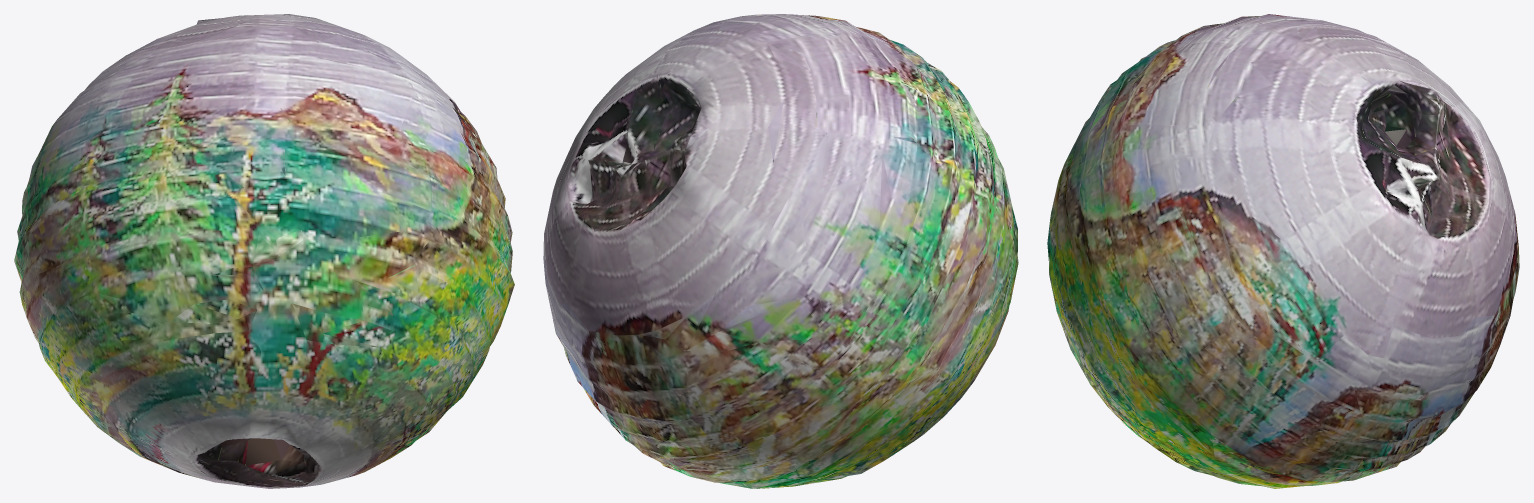
The model's file is AH3 ChanLim Landscape13 512.glb.
3 views of the same model, side by side, from view 1: azimuth 30°, elevation 25°; view 2: azimuth 150°, elevation 25°; view 3: azimuth 270°, elevation 25° (orthographic). The views are drawn at different scales.
Bounding box in the file's own units: 1000 × 985 × 990.
1 material, 1 textured.
